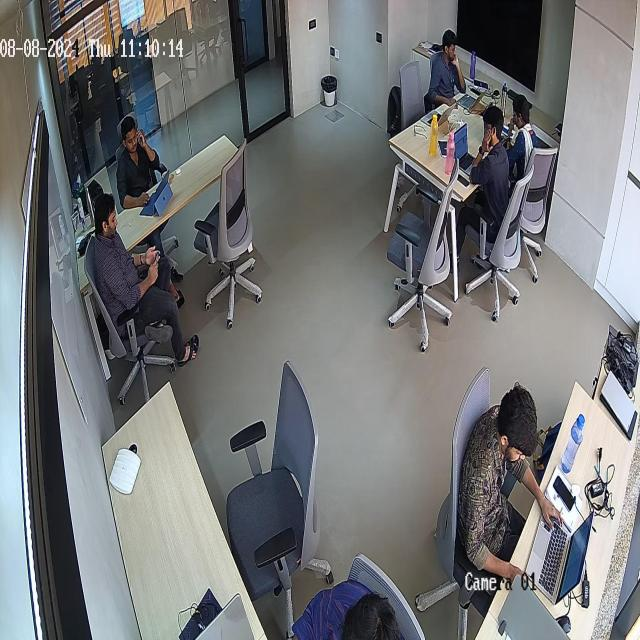chair: (219, 357, 324, 585), (388, 163, 462, 341), (199, 145, 265, 338), (472, 172, 529, 325), (519, 140, 560, 284)
laptop: (532, 498, 594, 626), (182, 592, 259, 640), (141, 171, 174, 212), (422, 97, 456, 129), (453, 125, 477, 170), (458, 84, 488, 111)
person: (452, 366, 584, 622), (82, 190, 191, 383), (264, 540, 438, 640), (456, 104, 514, 284), (428, 20, 487, 136), (484, 82, 540, 191), (112, 106, 176, 194)
phone: (552, 466, 577, 516), (145, 245, 162, 268), (455, 168, 471, 190), (135, 124, 145, 149), (468, 83, 482, 99)
